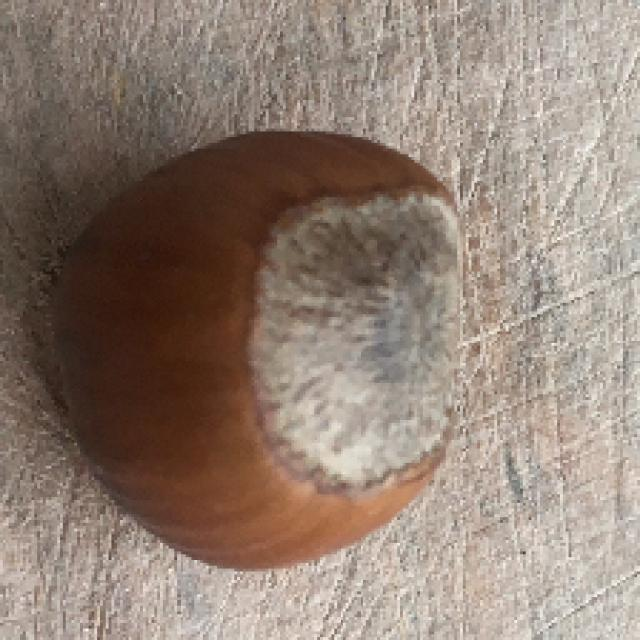damagedHazelnut: (32, 129, 466, 574)
